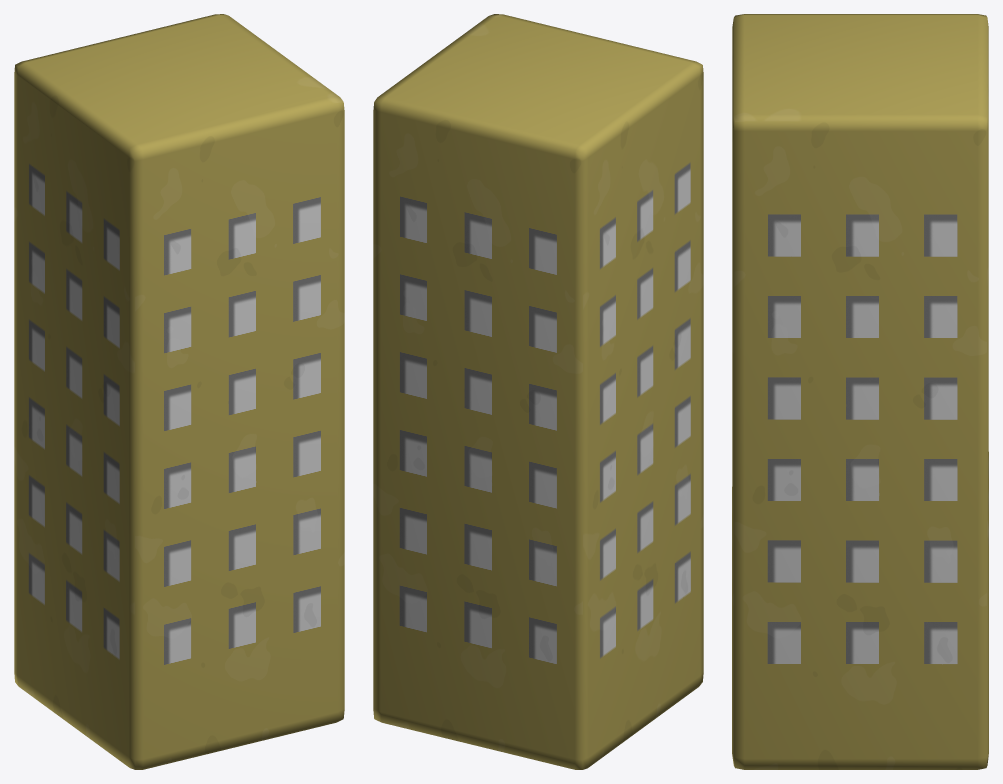
Rendered from gedung2.fbx.
3 renders of one model, left to right at view 1: azimuth 30°, elevation 25°; view 2: azimuth 150°, elevation 25°; view 3: azimuth 270°, elevation 25°, orthographic. The views are drawn at different scales.
Parts seen in each view (by area): view 1: Gedung2; view 2: Gedung2; view 3: Gedung2.
Boxes of the visible parts, bbox=[...] form: Gedung2: bbox=[14, 14, 344, 769]; Gedung2: bbox=[373, 14, 703, 769]; Gedung2: bbox=[732, 14, 988, 769].
Bounding box in the file's own units: 2396 × 6721 × 2394.
Materials: 1 (1 with a texture image).
